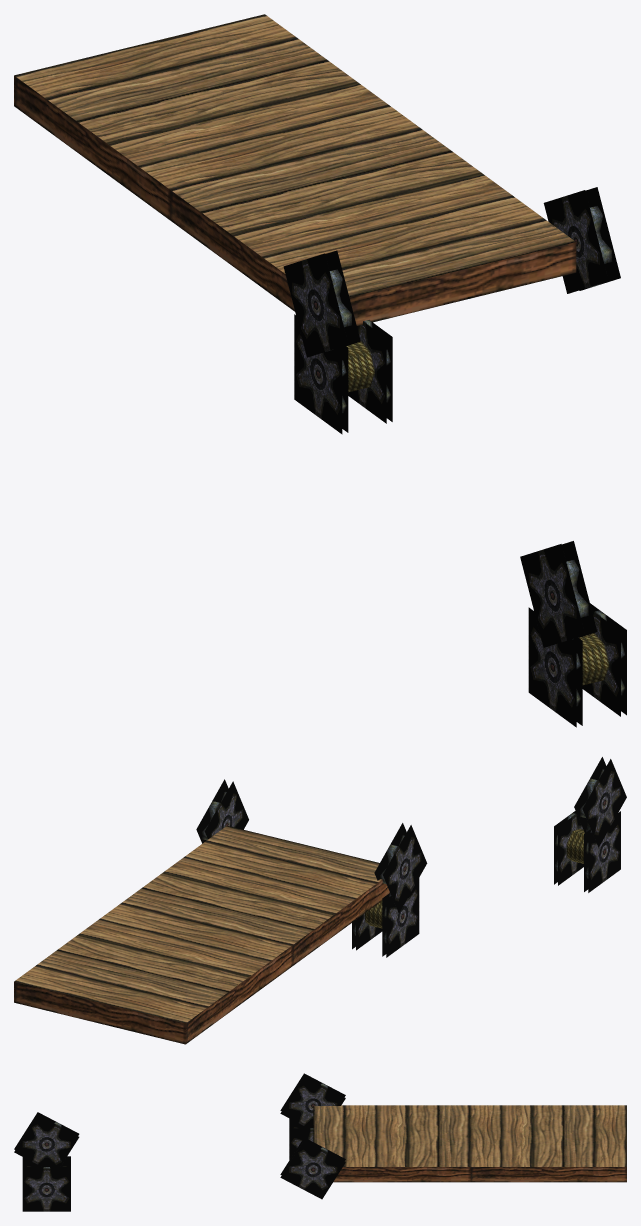
The model's file is LAKETOWN_BRIDGE_ANIM.fbx.
3 renders of one model, top to bottom at view 1: azimuth 30°, elevation 25°; view 2: azimuth 150°, elevation 25°; view 3: azimuth 270°, elevation 25°, orthographic. The views are drawn at different scales.
Visible parts, largest first — view 1: LAKETOWN_BRIDGE_ANIM; view 2: LAKETOWN_BRIDGE_ANIM; view 3: LAKETOWN_BRIDGE_ANIM.
Boxes of the visible parts, left/top/right/bottom form: LAKETOWN_BRIDGE_ANIM: left=14, top=14, right=626, bottom=727; LAKETOWN_BRIDGE_ANIM: left=14, top=757, right=626, bottom=1044; LAKETOWN_BRIDGE_ANIM: left=14, top=1073, right=626, bottom=1211.
Bounding box in the file's own units: 33143 × 27788 × 116307.
5 materials, 5 textured.
